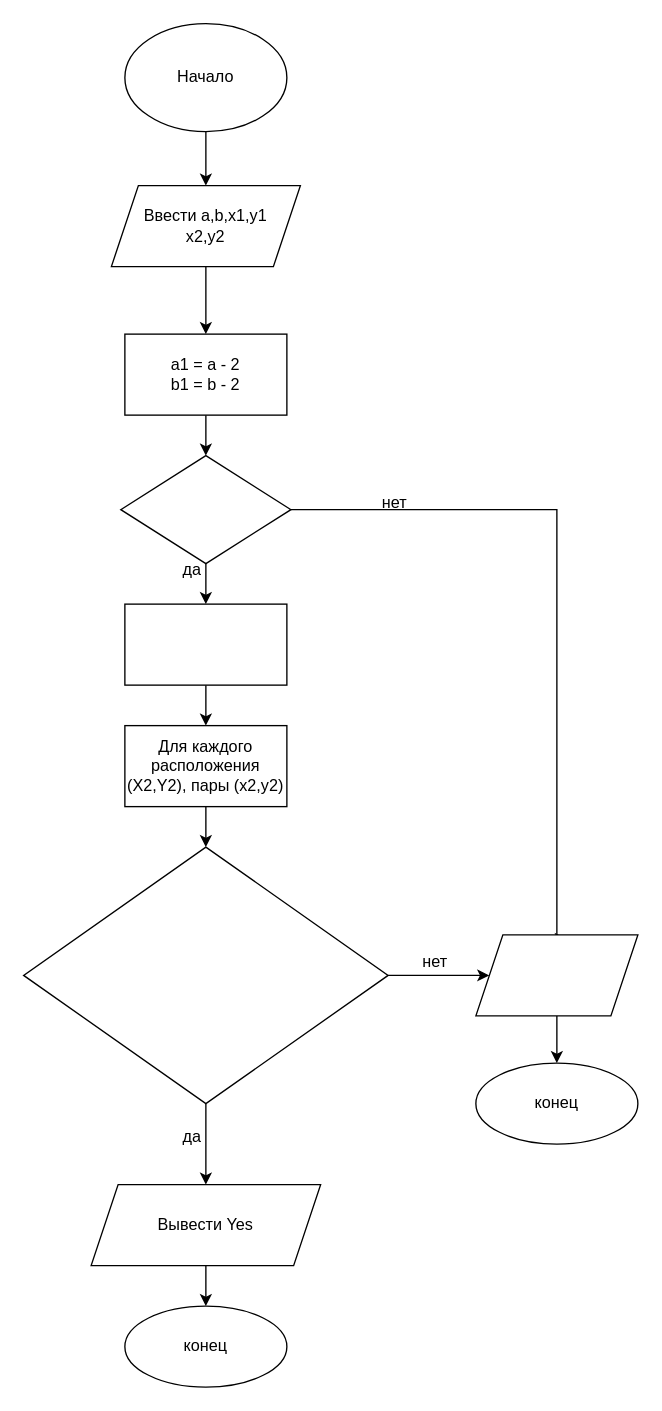
Some shapes in this 662 by 1411 pixel diagram are drawn without their labels. Each missing label, with the centre of its shape:
"a1 ≤ 0 или b1 ≤ 0" goes at (205,509).
"X1 + X2 + 1 ≤ a1 ∧ max(Y1, Y2) ≤ B ИЛИ Y1 + Y2 + 1 ≤ b1 ∧ max(X1, X2) ≤ A" goes at (205,975).
"Вывести No" goes at (556,975).
"Для каждого расположения (X1,Y1), пары (x1,y1)" goes at (205,644).
